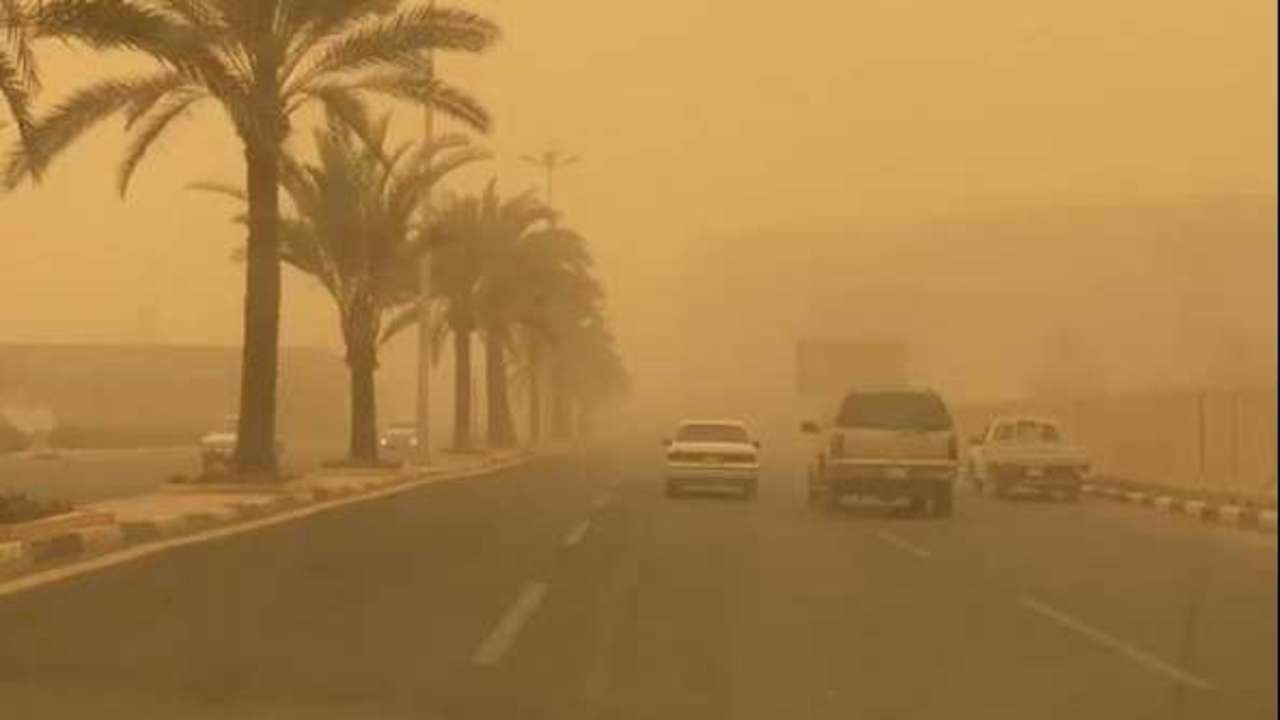car: (969, 417, 1087, 500), (664, 419, 759, 500), (197, 411, 283, 462), (378, 413, 426, 451)
truck: (810, 387, 960, 517)
